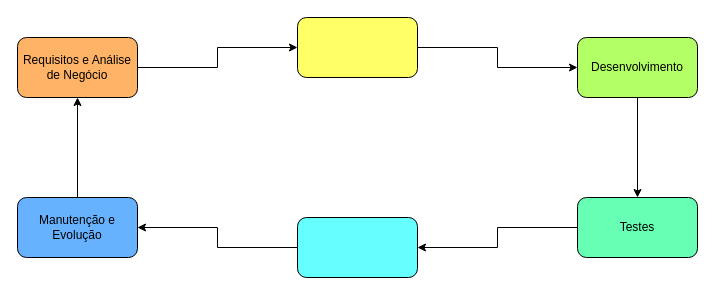
The diagram is 715 pixels wide and 295 high, and some of its shapes have lost their labels. The centre of each missing label's shape, as x and y in pixels:
"Design" goes at point (357, 47).
"Implantação" goes at point (357, 247).
